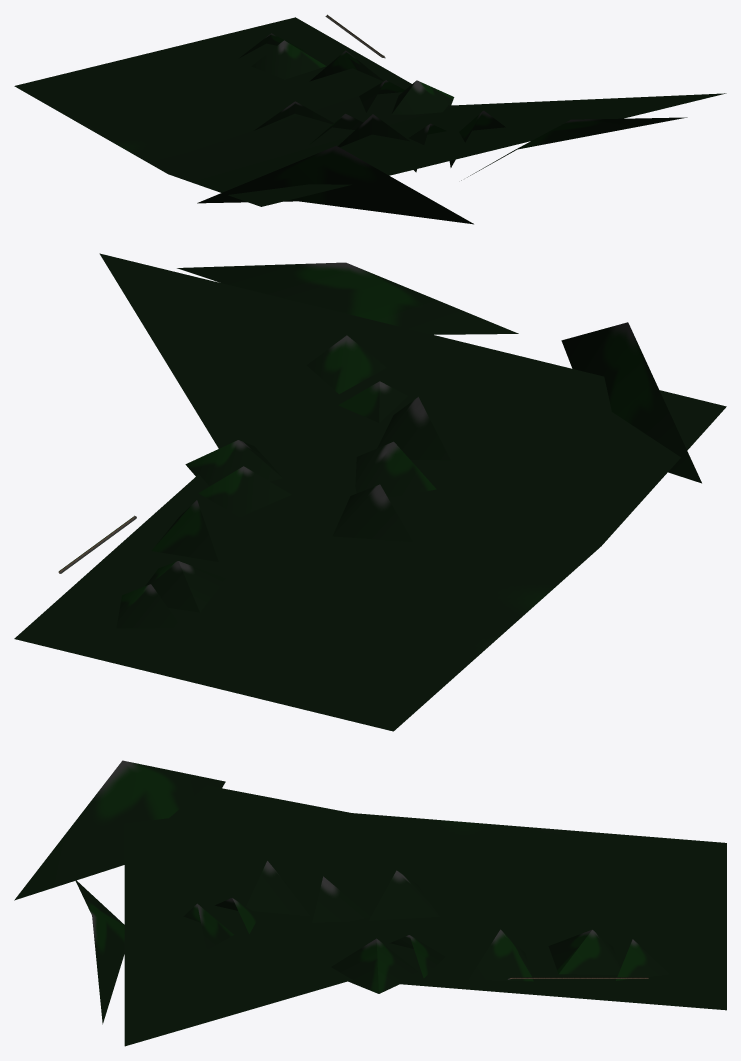
File: ugcm_race_location.glb
3 renders of one model, top to bottom at view 1: azimuth 30°, elevation 25°; view 2: azimuth 150°, elevation 25°; view 3: azimuth 270°, elevation 25°, orthographic. The views are drawn at different scales.
Parts seen in each view (by area): view 1: BackgroundScenery; view 2: BackgroundScenery; view 3: BackgroundScenery.
Boxes of the visible parts, box(x1,y1,x2,y2) form: BackgroundScenery: box(14, 17, 726, 224); BackgroundScenery: box(14, 253, 726, 731); BackgroundScenery: box(14, 760, 726, 1046).
Size of the model in its own units: 3303 by 672 by 3426.
Materials: 3 (3 with a texture image).
